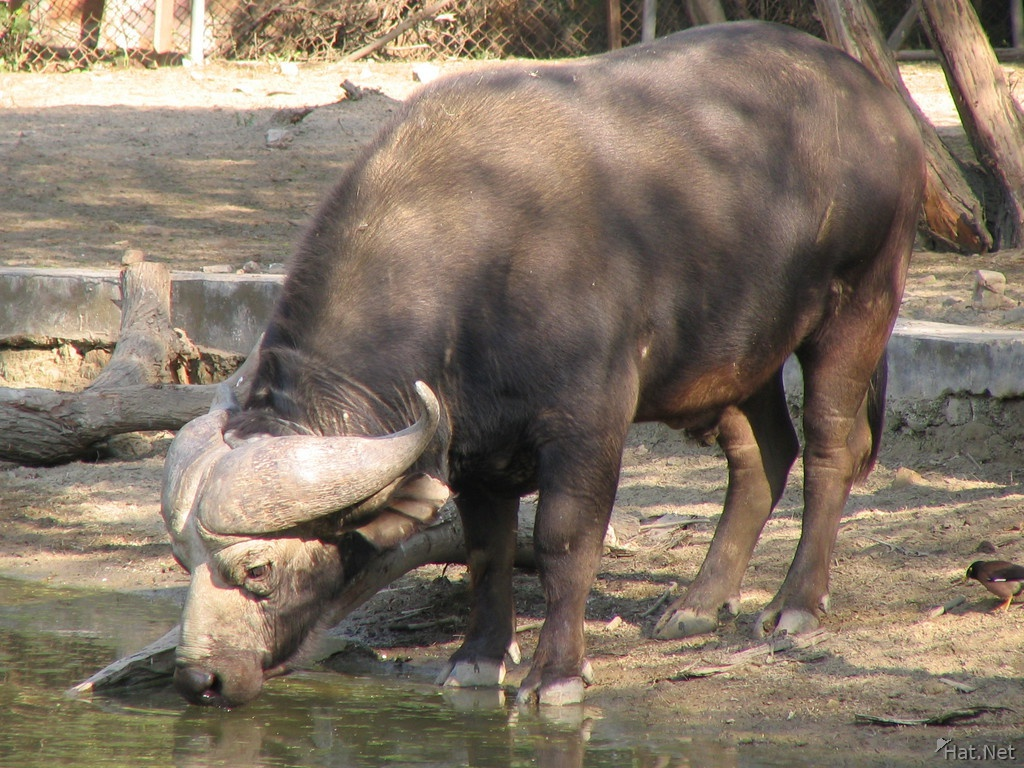buffalo: (159, 21, 921, 714)
